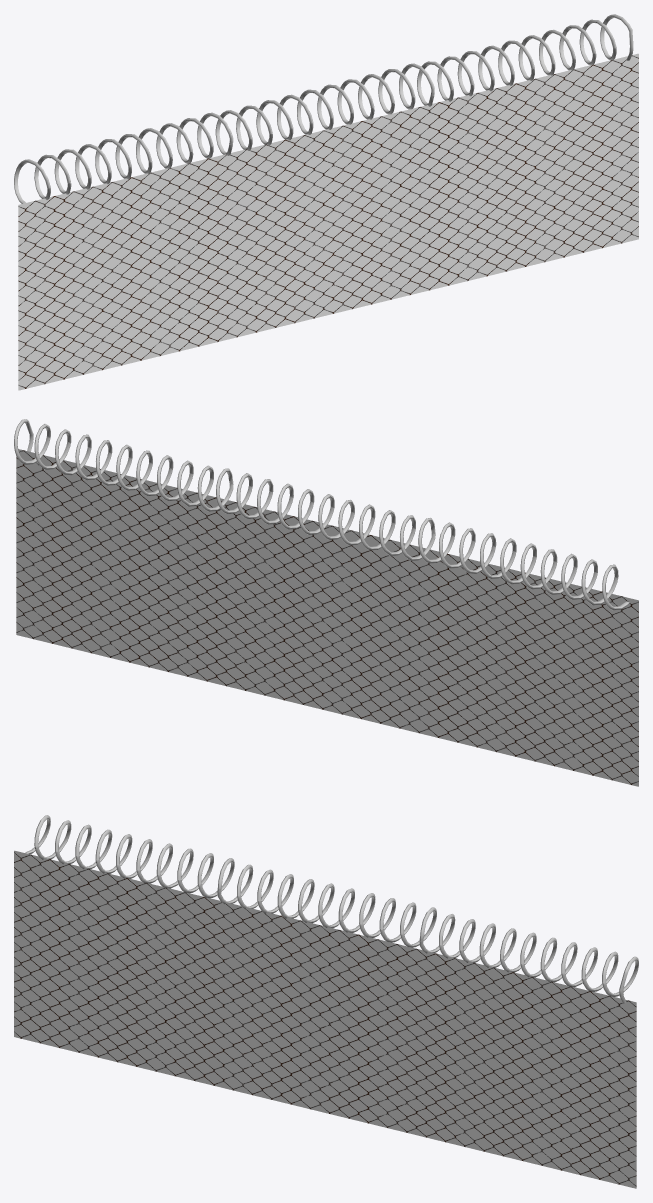
The model's file is Fencerino.fbx.
The picture shows the model from 3 angles, top to bottom: view 1: azimuth 30°, elevation 25°; view 2: azimuth 150°, elevation 25°; view 3: azimuth 330°, elevation 25°; orthographic projection.
Visible parts, largest first — view 1: pCylinder39, pCylinder38; view 2: pCylinder38, pCylinder39; view 3: pCylinder39, pCylinder38.
Boxes of the visible parts, x1,y1,x2,y2 form: pCylinder39: (18,54,638,390); pCylinder38: (14,14,638,389); pCylinder38: (14,419,638,786); pCylinder39: (18,449,638,786); pCylinder39: (14,851,636,1188); pCylinder38: (14,815,638,1188).
Size of the model in its own units: 15.87 by 5.4 by 1.08.
